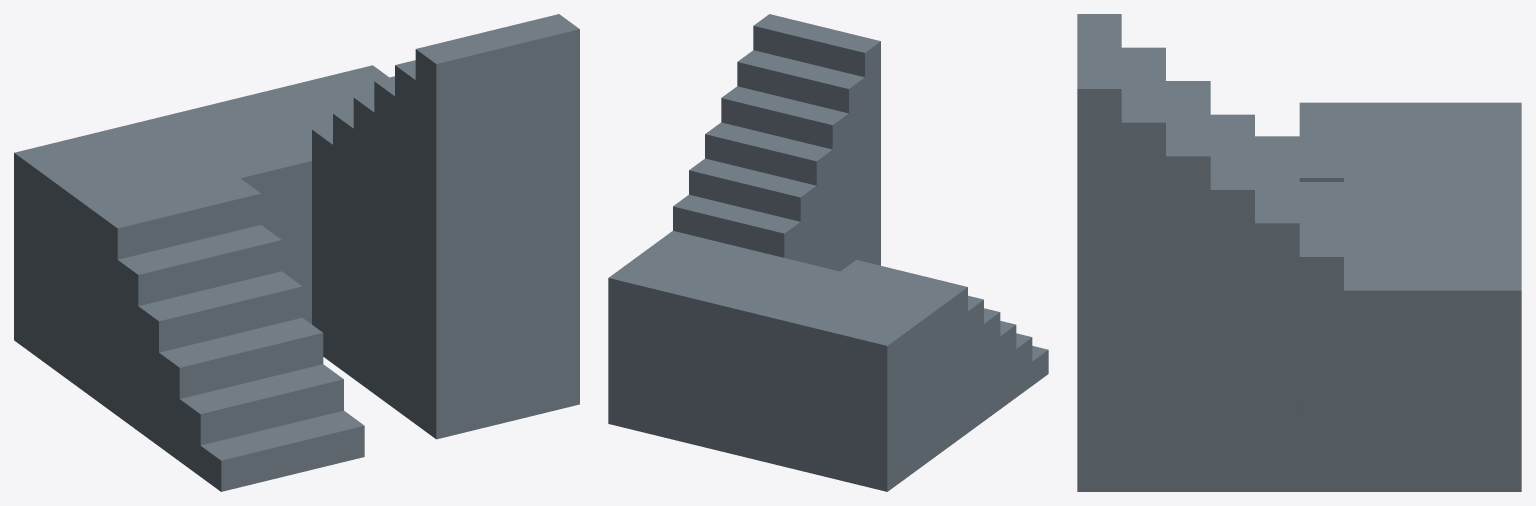
The model's file is base-Stairs180.fbx.
3 renders of one model, left to right at view 1: azimuth 30°, elevation 25°; view 2: azimuth 150°, elevation 25°; view 3: azimuth 270°, elevation 25°, orthographic. The views are drawn at different scales.
Parts seen in each view (by area): view 1: base-Stairs180_Upper.011, base-Stairs180_Landing.001, base-Stairs180_Lower.011, base-Stairs180_Lower.010, base-Stairs180_Lower.009, base-Stairs180_Lower.008, base-Stairs180_Lower.007, base-Stairs180_Lower.006, base-Stairs180_Upper.010, base-Stairs180_Upper.009, base-Stairs180_Upper.008, base-Stairs180_Upper.007 (+1 smaller); view 2: base-Stairs180_Landing.001, base-Stairs180_Upper.011, base-Stairs180_Upper.010, base-Stairs180_Upper.009, base-Stairs180_Upper.008, base-Stairs180_Upper.007, base-Stairs180_Upper.006, base-Stairs180_Lower.011, base-Stairs180_Lower.010, base-Stairs180_Lower.009, base-Stairs180_Lower.008, base-Stairs180_Lower.007 (+1 smaller); view 3: base-Stairs180_Landing.001, base-Stairs180_Upper.011, base-Stairs180_Upper.010, base-Stairs180_Upper.009, base-Stairs180_Upper.008, base-Stairs180_Upper.007, base-Stairs180_Upper.006, base-Stairs180_Lower.011, base-Stairs180_Lower.010.
Part boxes in pixels (x1,y1,x2,y2): base-Stairs180_Upper.011: [415, 14, 579, 439]; base-Stairs180_Landing.001: [14, 65, 389, 400]; base-Stairs180_Lower.011: [97, 178, 260, 415]; base-Stairs180_Lower.010: [117, 225, 281, 430]; base-Stairs180_Lower.009: [138, 271, 302, 445]; base-Stairs180_Lower.008: [159, 317, 323, 461]; base-Stairs180_Lower.007: [179, 364, 343, 476]; base-Stairs180_Lower.006: [200, 410, 364, 491]; base-Stairs180_Upper.010: [395, 60, 415, 423]; base-Stairs180_Upper.009: [374, 76, 394, 408]; base-Stairs180_Upper.008: [353, 92, 374, 393]; base-Stairs180_Upper.007: [333, 108, 353, 378]; base-Stairs180_Landing.001: [608, 231, 951, 491]; base-Stairs180_Upper.011: [753, 14, 880, 265]; base-Stairs180_Upper.010: [737, 50, 864, 264]; base-Stairs180_Upper.009: [721, 86, 848, 271]; base-Stairs180_Upper.008: [705, 122, 832, 269]; base-Stairs180_Upper.007: [689, 158, 816, 265]; base-Stairs180_Upper.006: [673, 194, 800, 261]; base-Stairs180_Lower.011: [840, 260, 967, 444]; base-Stairs180_Lower.010: [968, 295, 983, 432]; base-Stairs180_Lower.009: [984, 308, 1000, 420]; base-Stairs180_Lower.008: [1000, 321, 1016, 408]; base-Stairs180_Lower.007: [1016, 333, 1032, 397]; base-Stairs180_Landing.001: [1344, 102, 1521, 491]; base-Stairs180_Upper.011: [1077, 14, 1121, 491]; base-Stairs180_Upper.010: [1121, 47, 1165, 491]; base-Stairs180_Upper.009: [1166, 81, 1210, 491]; base-Stairs180_Upper.008: [1210, 114, 1254, 491]; base-Stairs180_Upper.007: [1255, 148, 1299, 491]; base-Stairs180_Upper.006: [1299, 182, 1343, 491]; base-Stairs180_Lower.011: [1299, 102, 1343, 181]; base-Stairs180_Lower.010: [1255, 136, 1299, 148].
Bounding box in the file's own units: 300 × 300 × 300.
